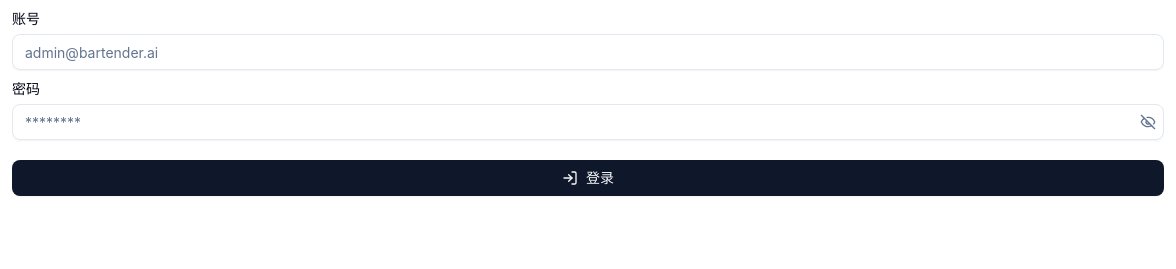
Test: UserAuthForm › Rendering › shows validation messages when submitting empty form
What coordinates should you click on to do the following:
click the button "登录"
I would click on:
 (588, 178)
Its box is x1=12 y1=160 x2=1164 y2=196.
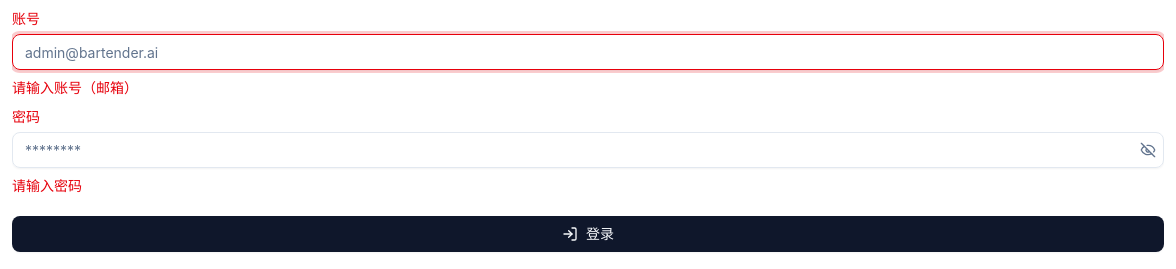
Check: the text "请输入账号（邮箱）" is shown, box x1=12 y1=79 x2=138 y2=96
Check: the text "请输入密码" is shown, box x1=12 y1=177 x2=82 y2=194
